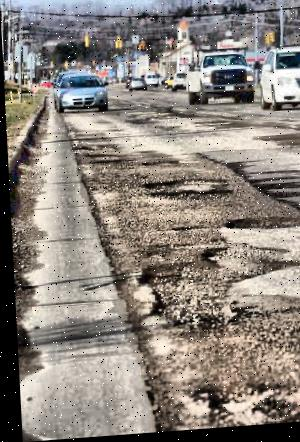pothole: (131, 259, 232, 339), (193, 384, 277, 424), (199, 245, 273, 283), (143, 188, 232, 211), (217, 216, 300, 238), (141, 177, 223, 189), (137, 160, 178, 171)
